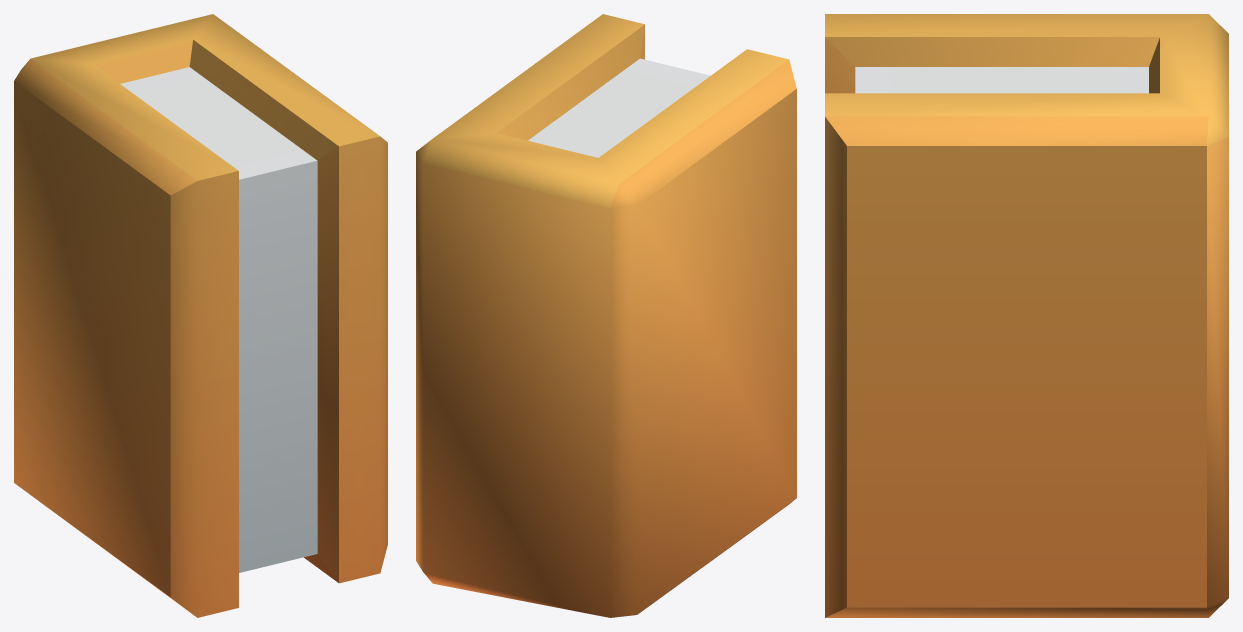
Rendered from cc0-book-single-lod1.glb.
The picture shows the model from 3 angles, left to right: view 1: azimuth 30°, elevation 25°; view 2: azimuth 150°, elevation 25°; view 3: azimuth 270°, elevation 25°; orthographic projection. The views are drawn at different scales.
Visible parts, largest first — view 1: part_0; view 2: part_0; view 3: part_0.
Boxes of the visible parts, <box> form: part_0: <box>14,14,387,617</box>; part_0: <box>416,14,796,617</box>; part_0: <box>825,14,1228,617</box>.
Bounding box in the file's own units: 0.26 × 0.5 × 0.365.
1 material, 1 textured.
